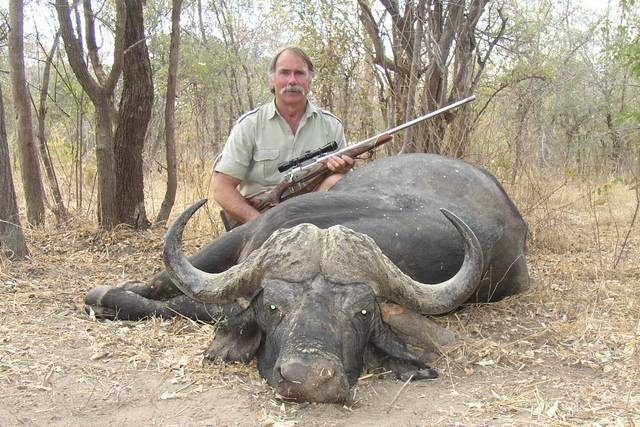buffalo: (83, 153, 533, 407)
